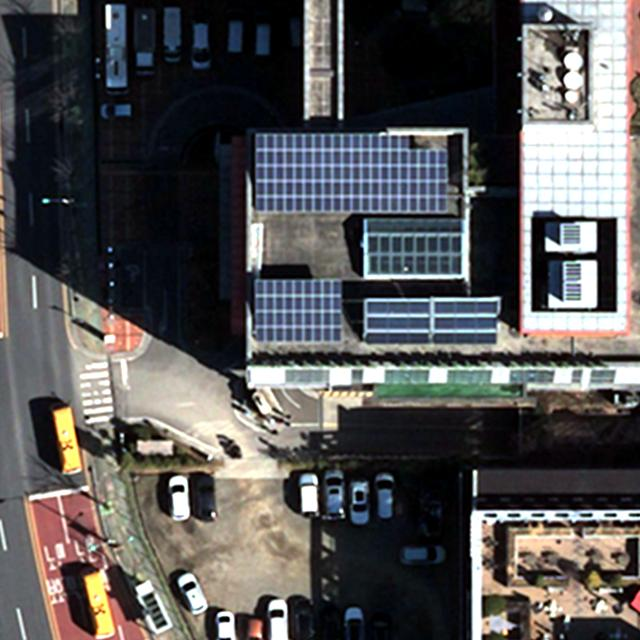panel: (253, 130, 449, 213), (363, 295, 499, 345), (253, 279, 346, 343)
